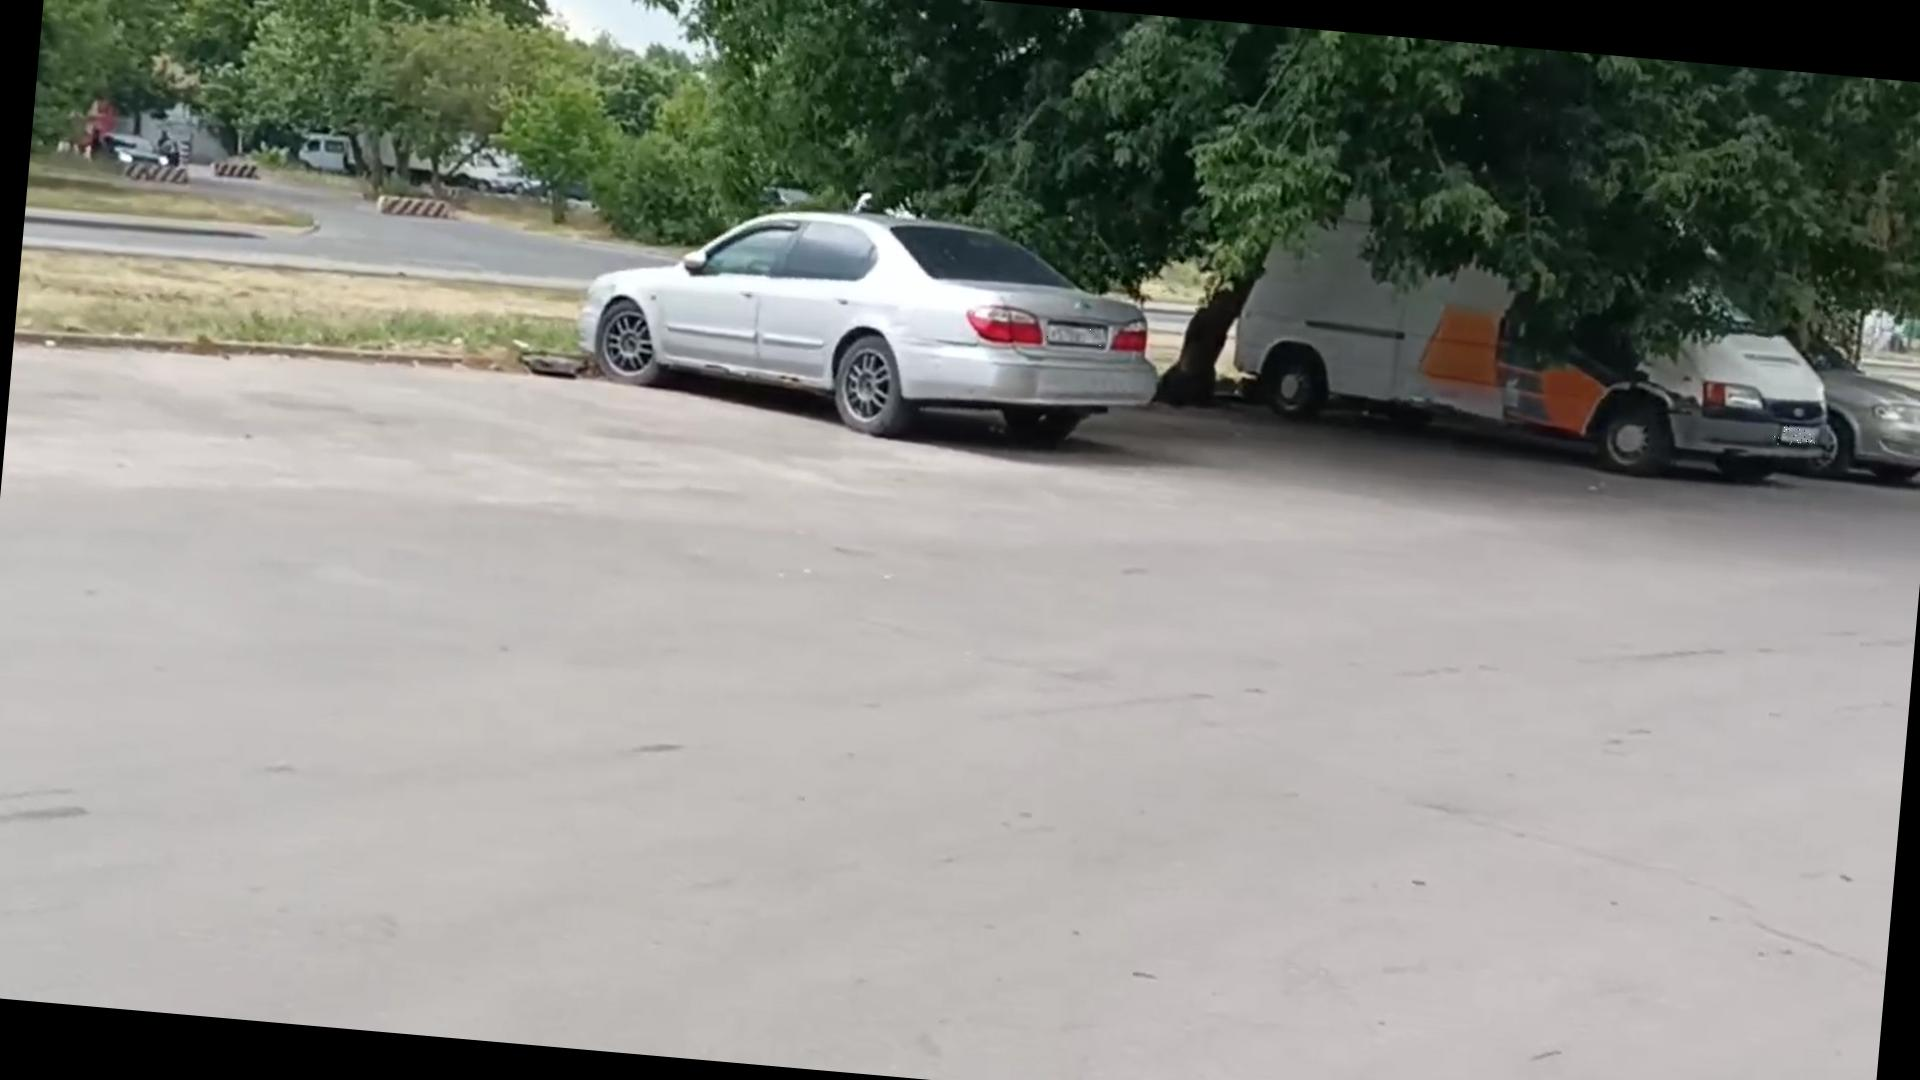plate: (1044, 321, 1107, 347), (1773, 425, 1819, 449)
